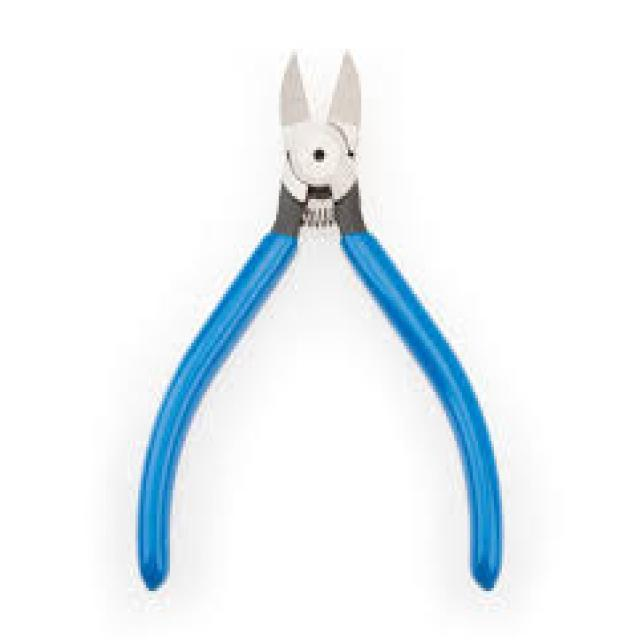pliers: (122, 41, 516, 608)
